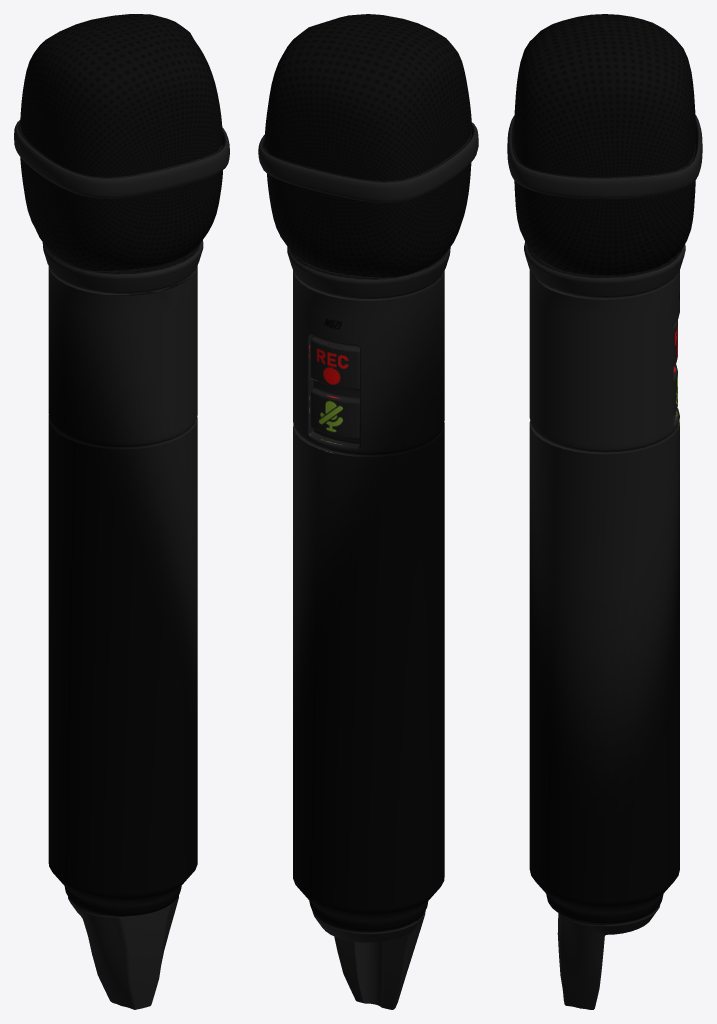
The model's file is microphone.glb.
3 views of the same model, side by side, from view 1: azimuth 30°, elevation 25°; view 2: azimuth 150°, elevation 25°; view 3: azimuth 270°, elevation 25° (orthographic).
Parts seen in each view (by area): view 1: target; view 2: target; view 3: target.
Part boxes in pixels (<box>): target: <box>14,14,229,1009</box>; target: <box>258,14,478,1009</box>; target: <box>507,14,702,1009</box>.
Bounding box in the file's own units: 0.0482 × 0.2578 × 0.047.
1 material, 1 textured.
